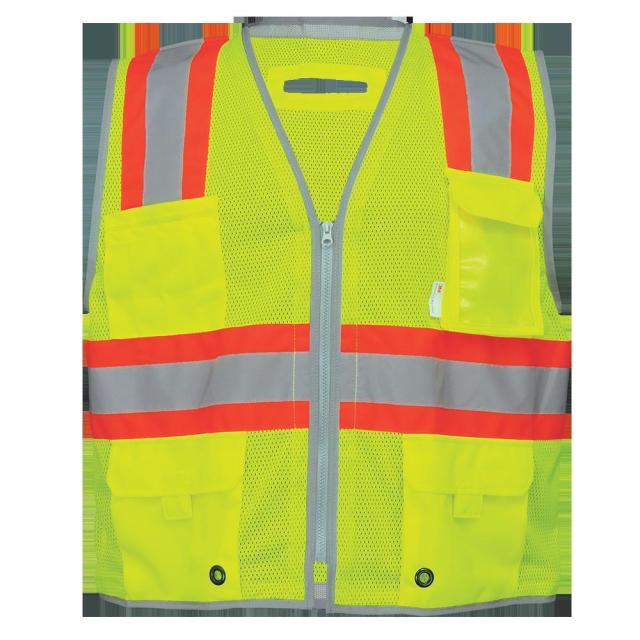Vest: (82, 24, 571, 612)
